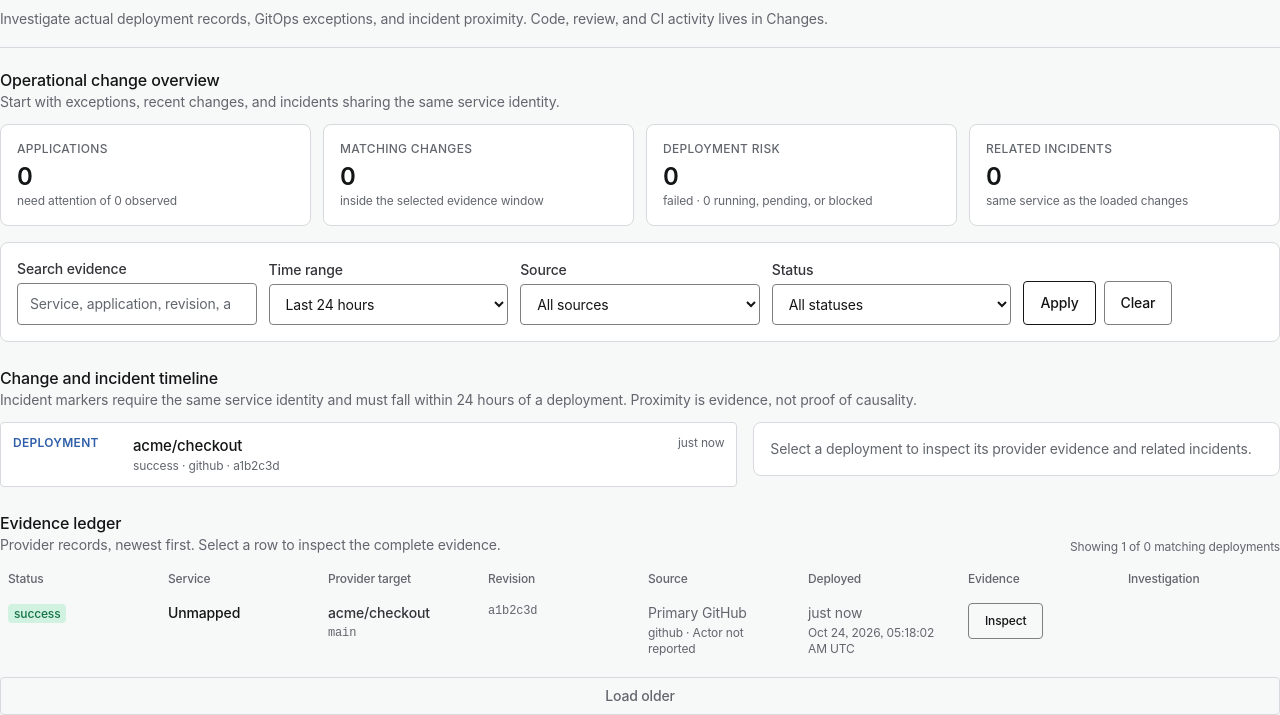
Test: DeploymentsPanel loading/error characterization › characterization: a failed Load older keeps the accumulated rows mounted under the banner
The width and height of the screenshot is (1280, 715).
(page scrolled)
Click the button "Load older": [640, 696] box [0,676,1279,714]
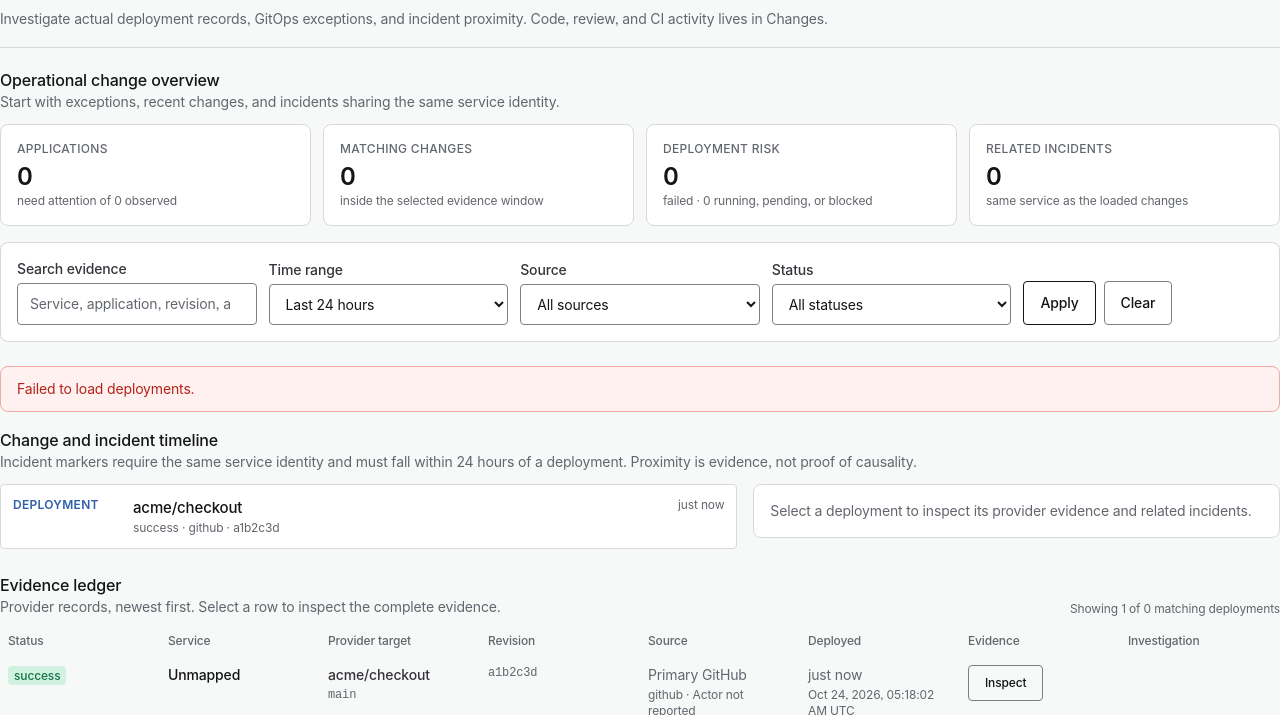
expect the text "acme/checkout" below "Change and incident timeline" is shown: met, box [133,498,242,517]
expect the text "Failed to load deployments." is shown: met, box [17,379,194,399]
